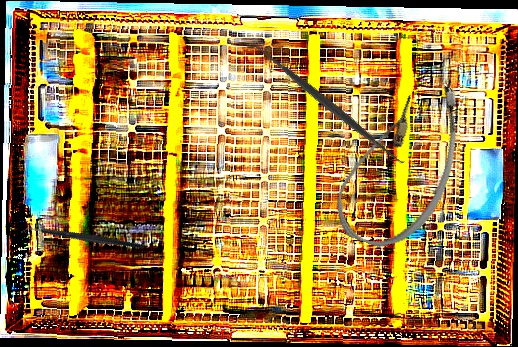Cannula: (325, 64, 478, 262)
Chopper: (19, 188, 146, 291)
Spatula Surgical: (244, 34, 410, 174)
